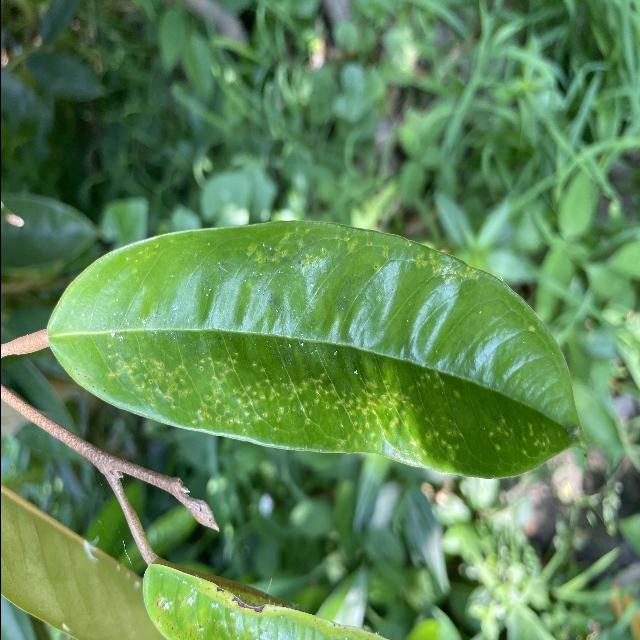Leaf Spot: (37, 211, 600, 490)
